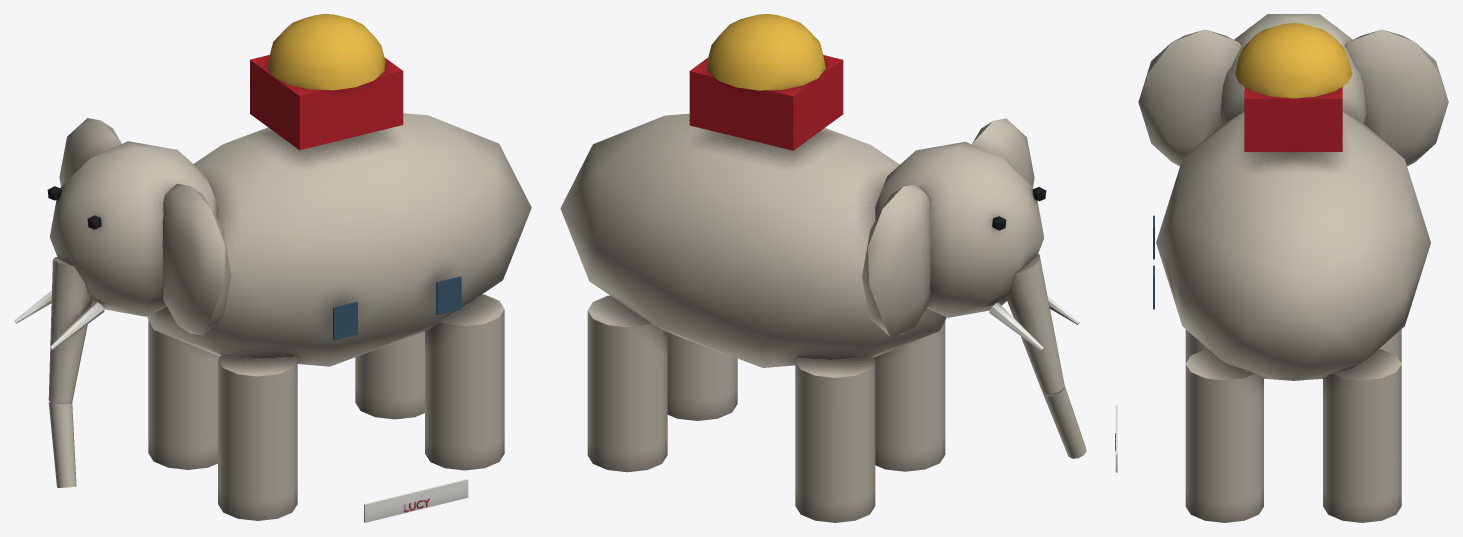
The model's file is lucy_elefanta.glb.
3 views of the same model, side by side, from view 1: azimuth 30°, elevation 25°; view 2: azimuth 150°, elevation 25°; view 3: azimuth 270°, elevation 25° (orthographic).
Visible parts, largest first — view 1: lucy_elefanta; view 2: lucy_elefanta; view 3: lucy_elefanta.
Part boxes in pixels (bbox=[...]): lucy_elefanta: bbox=[14, 14, 531, 522]; lucy_elefanta: bbox=[560, 14, 1086, 522]; lucy_elefanta: bbox=[1115, 14, 1448, 522].
Size of the model in its own units: 27.69 by 24 by 16.98.
1 material, 1 textured.
